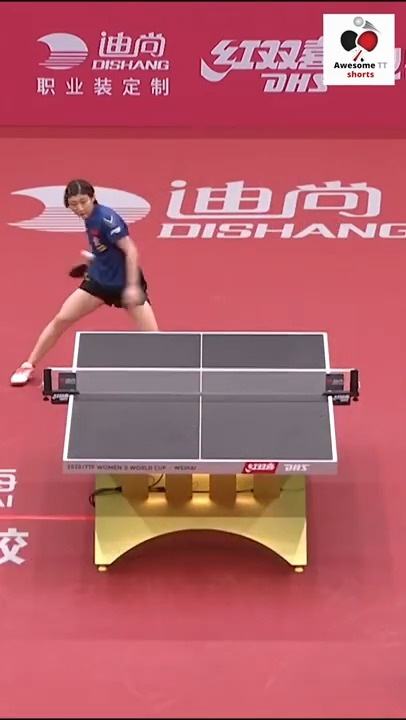Ball: (80, 249, 94, 261)
